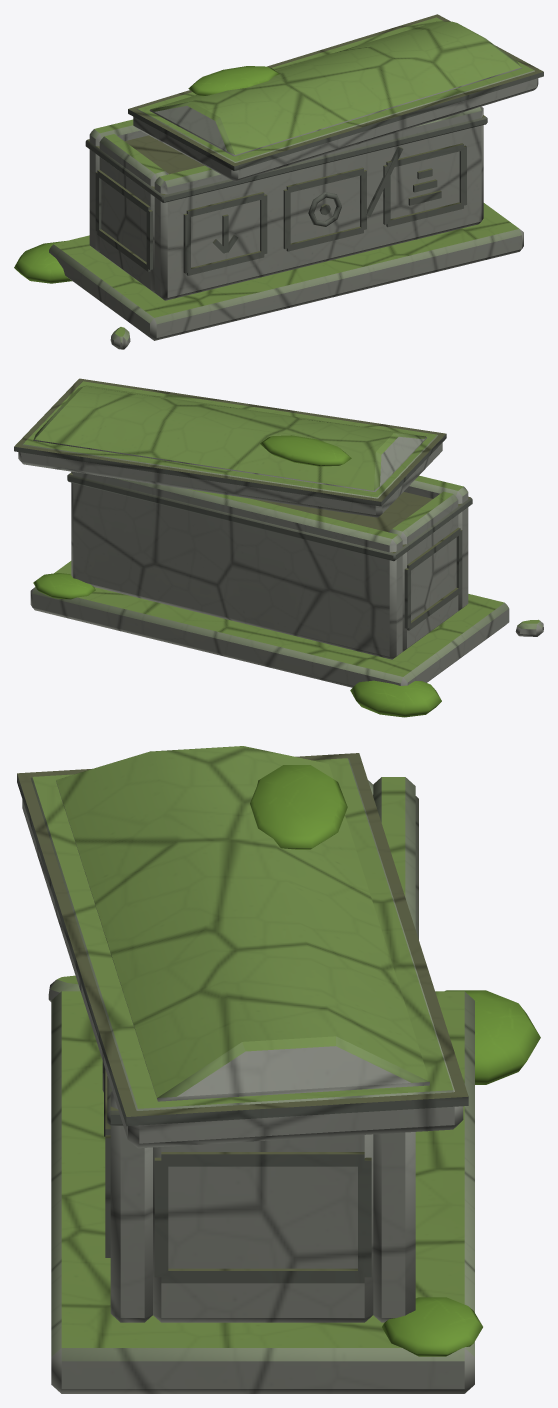
File: stone_sarcophagus.glb
3 renders of one model, top to bottom at view 1: azimuth 30°, elevation 25°; view 2: azimuth 150°, elevation 25°; view 3: azimuth 270°, elevation 25°, orthographic. The views are drawn at different scales.
Visible parts, largest first — view 1: stone_sarcophagus; view 2: stone_sarcophagus; view 3: stone_sarcophagus.
Part boxes in pixels (<box>): stone_sarcophagus: <box>14,14,543,349</box>; stone_sarcophagus: <box>14,378,543,717</box>; stone_sarcophagus: <box>17,746,540,1393</box>.
Bounding box in the file's own units: 3.04 × 1.3 × 1.55.
Materials: 4 (4 with a texture image).
